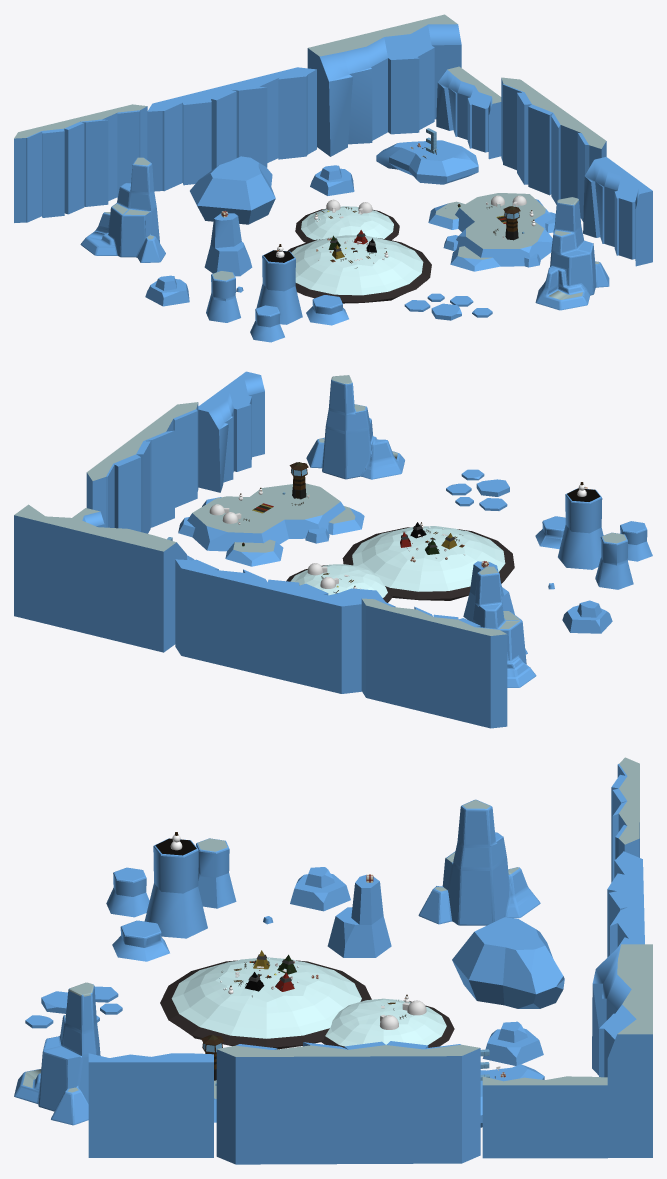
The model's file is Isla Glaciar.fbx.
3 views of the same model, one above another, from view 1: azimuth 30°, elevation 25°; view 2: azimuth 150°, elevation 25°; view 3: azimuth 270°, elevation 25° (orthographic). The views are drawn at different scales.
Visible parts, largest first — view 1: Muro de hielo, muro de hielo003, muro de hielo2, muro de hielo004, SueloNieve003, paltaformaDeHielo, Muro de hielo002, PiladeHielo, iceberg, iceberg003, Muro de hielo001, HieloGigante (+6 smaller); view 2: muro de hielo003, Muro de hielo, muro de hielo2, muro de hielo004, paltaformaDeHielo, SueloNieve003, PiladeHielo, Muro de hielo002, iceberg003, iceberg, SueloNieve002, PlataformaDeHielo2 (+3 smaller); view 3: muro de hielo004, SueloNieve003, Muro de hielo002, Muro de hielo, Muro de hielo001, PiladeHielo, iceberg, HieloGigante, iceberg003, SueloNieve002, iceberg2, muro de hielo003 (+5 smaller).
Boxes of the visible parts, <box> form: Muro de hielo: <box>307,14,461,156</box>; muro de hielo003: <box>147,67,316,191</box>; muro de hielo2: <box>14,104,147,222</box>; muro de hielo004: <box>501,77,606,221</box>; SueloNieve003: <box>287,235,431,303</box>; paltaformaDeHielo: <box>428,193,555,271</box>; Muro de hielo002: <box>583,157,652,266</box>; PiladeHielo: <box>206,250,348,342</box>; iceberg: <box>80,157,165,262</box>; iceberg003: <box>535,197,609,310</box>; Muro de hielo001: <box>436,66,501,159</box>; HieloGigante: <box>190,156,275,224</box>; muro de hielo003: <box>175,559,361,693</box>; Muro de hielo: <box>14,504,187,652</box>; muro de hielo2: <box>361,598,507,728</box>; muro de hielo004: <box>86,402,198,533</box>; paltaformaDeHielo: <box>178,483,364,566</box>; SueloNieve003: <box>342,526,514,600</box>; PiladeHielo: <box>535,488,652,589</box>; Muro de hielo002: <box>198,371,264,492</box>; iceberg003: <box>306,375,404,479</box>; iceberg: <box>472,566,536,687</box>; SueloNieve002: <box>286,564,392,602</box>; PlataformaDeHielo2: <box>446,469,509,510</box>; muro de hielo004: <box>216,1041,480,1164</box>; SueloNieve003: <box>160,957,371,1049</box>; Muro de hielo002: <box>88,1053,213,1157</box>; Muro de hielo: <box>592,944,652,1157</box>; Muro de hielo001: <box>482,1076,607,1158</box>; PiladeHielo: <box>106,838,236,961</box>; iceberg: <box>418,799,540,925</box>; HieloGigante: <box>452,917,564,1008</box>; iceberg003: <box>14,982,100,1125</box>; SueloNieve002: <box>320,998,454,1047</box>; iceberg2: <box>327,874,391,957</box>; muro de hielo003: <box>607,851,644,957</box>.
Size of the model in its own units: 67.66 by 14.2 by 62.41.
